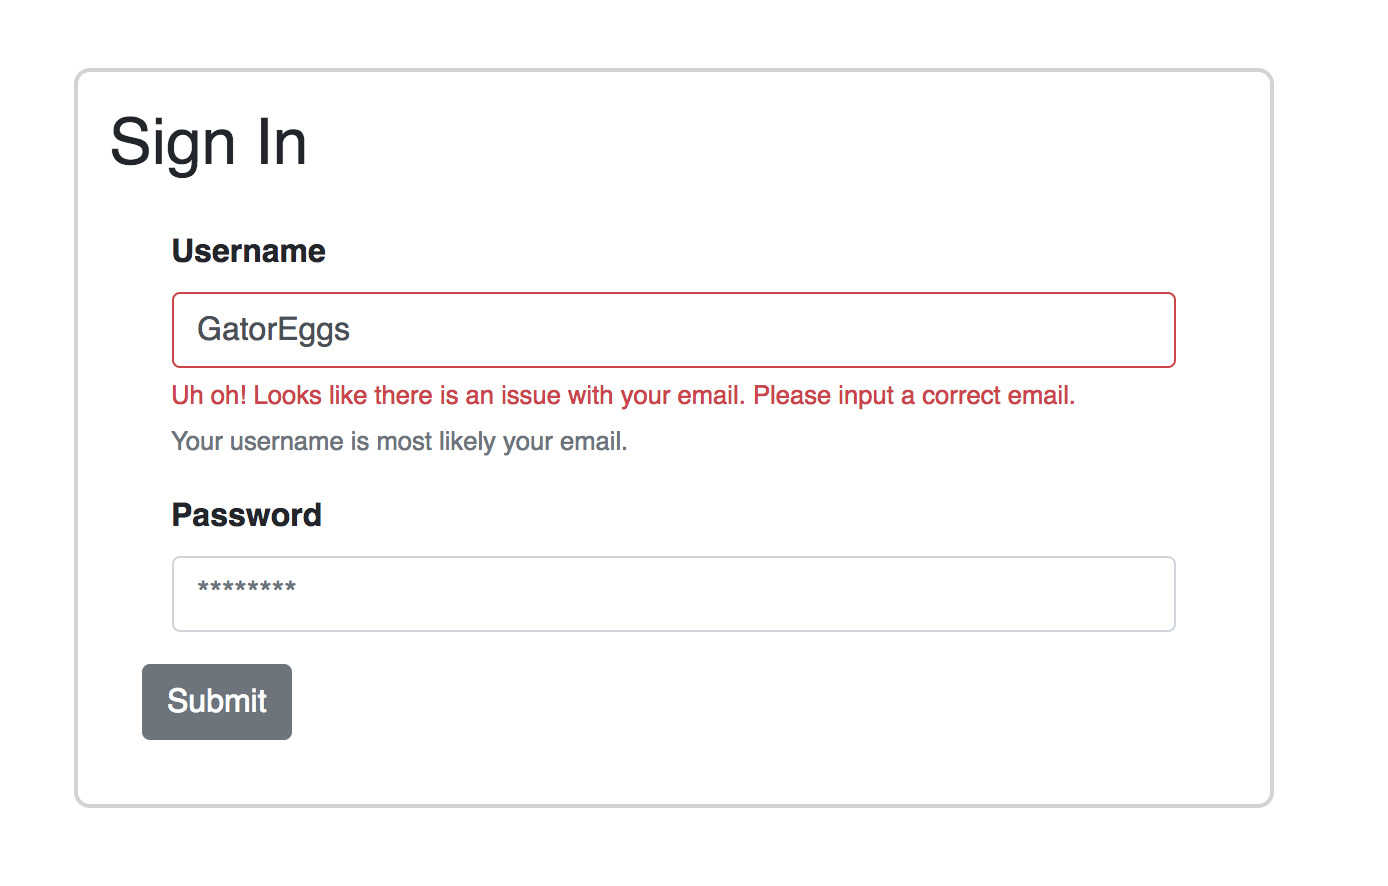error_field: (171, 290, 1179, 370)
error_message: (171, 380, 1079, 406)
